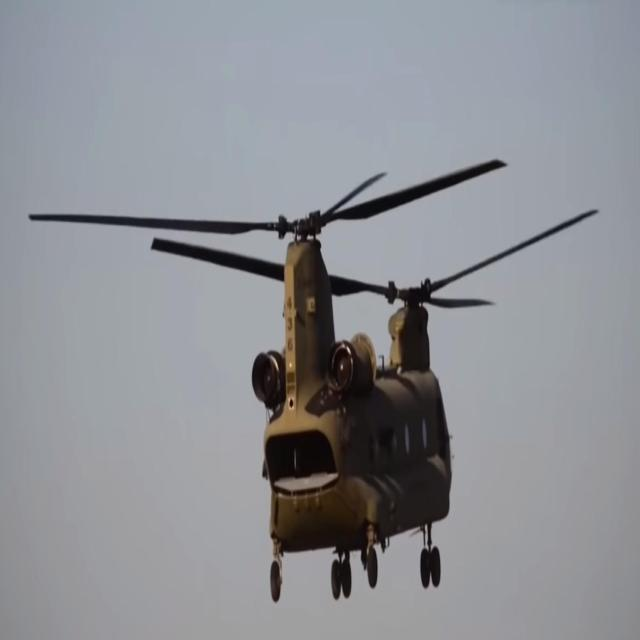Helicopter: (138, 173, 452, 578)
